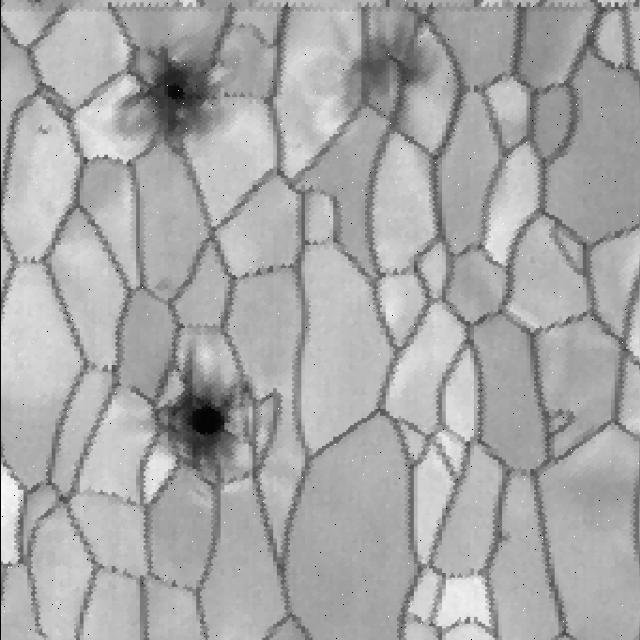good_void: (309, 17, 447, 133), (151, 345, 250, 486), (103, 43, 220, 148), (26, 122, 55, 142), (238, 462, 250, 484), (498, 531, 510, 550)
